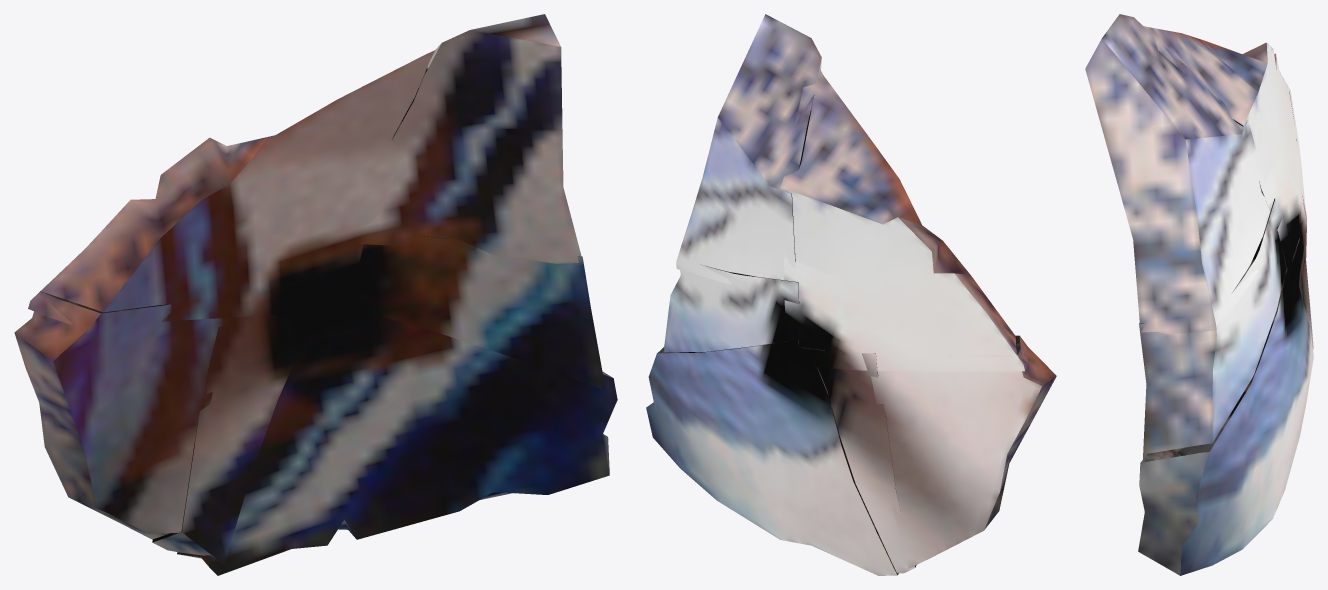
File: Ceramic003.gltf
The picture shows the model from 3 angles, left to right: view 1: azimuth 30°, elevation 25°; view 2: azimuth 150°, elevation 25°; view 3: azimuth 270°, elevation 25°; orthographic projection. The views are drawn at different scales.
Visible parts, largest first — view 1: Ceramic003_003, Ceramic003_001, Ceramic003, Ceramic003_004, Ceramic003_005, Ceramic003_002; view 2: Ceramic003_001, Ceramic003_003, Ceramic003_004, Ceramic003, Ceramic003_005, Ceramic003_002; view 3: Ceramic003, Ceramic003_003, Ceramic003_005, Ceramic003_001, Ceramic003_002.
Part boxes in pixels (x1,y1,x2,y2): Ceramic003_003: [177, 306, 617, 575]; Ceramic003_001: [28, 50, 435, 324]; Ceramic003: [360, 14, 581, 263]; Ceramic003_004: [14, 291, 230, 539]; Ceramic003_005: [346, 236, 605, 390]; Ceramic003_002: [152, 315, 315, 567]; Ceramic003_001: [780, 69, 1027, 371]; Ceramic003_003: [646, 339, 898, 575]; Ceramic003_004: [871, 335, 1056, 568]; Ceramic003: [676, 14, 821, 284]; Ceramic003_005: [663, 264, 799, 352]; Ceramic003_002: [802, 347, 916, 573]; Ceramic003: [1085, 14, 1270, 334]; Ceramic003_003: [1138, 250, 1313, 575]; Ceramic003_005: [1139, 198, 1286, 458]; Ceramic003_001: [1143, 26, 1306, 272]; Ceramic003_002: [1292, 196, 1313, 349].
Size of the model in its own units: 0.1007 by 0.0997 by 0.0386.
Materials: 1 (1 with a texture image).
